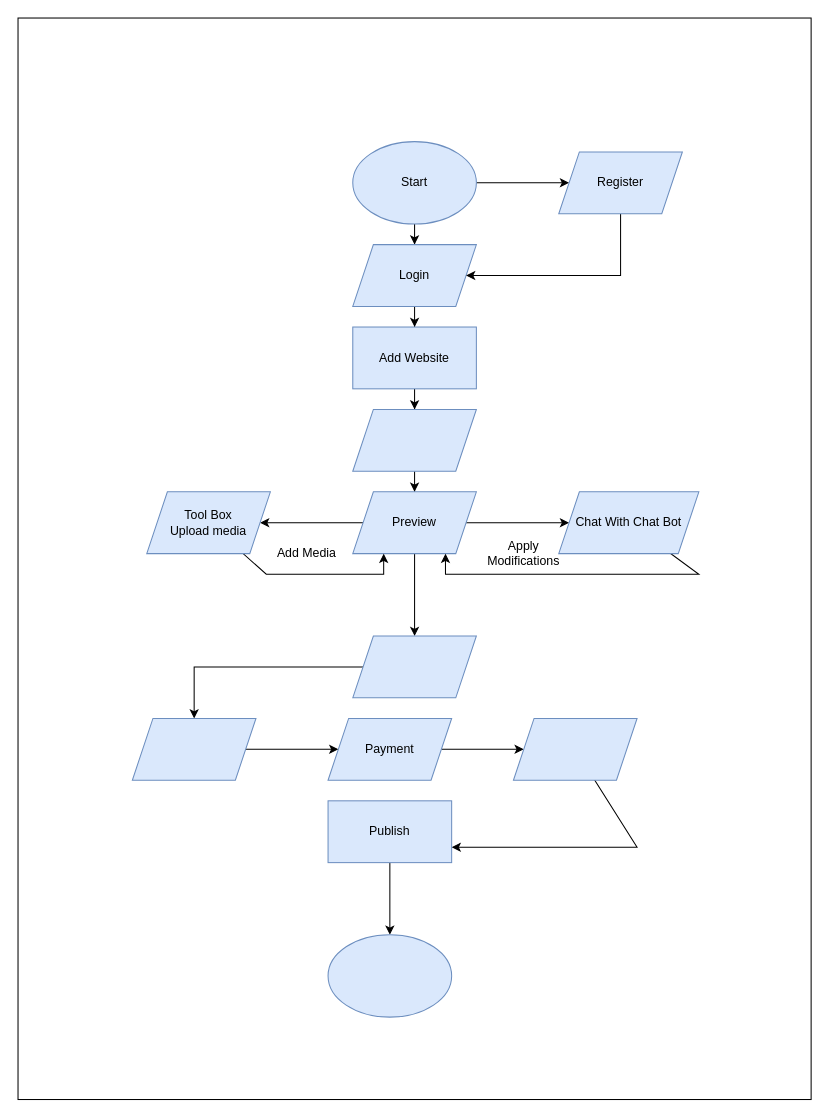
Image size: 829x1118. Some labels were removed from this diagram. Here are the shapes that lost their labels. From the top down, the centre of each, then its label:
[414,439]: Select Template
[414,666]: Preview Final Website
[193,748]: Select hosting Plan
[574,748]: Add Domain Name
[389,975]: End
